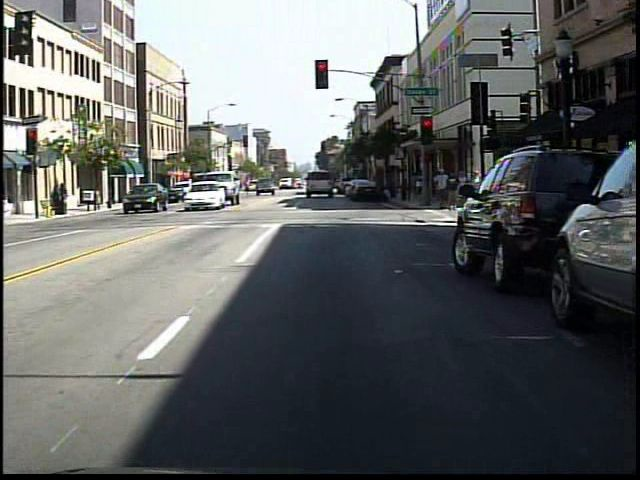person: (432, 165, 452, 211), (446, 168, 460, 214), (410, 166, 427, 201), (455, 169, 470, 208), (238, 173, 256, 202)
